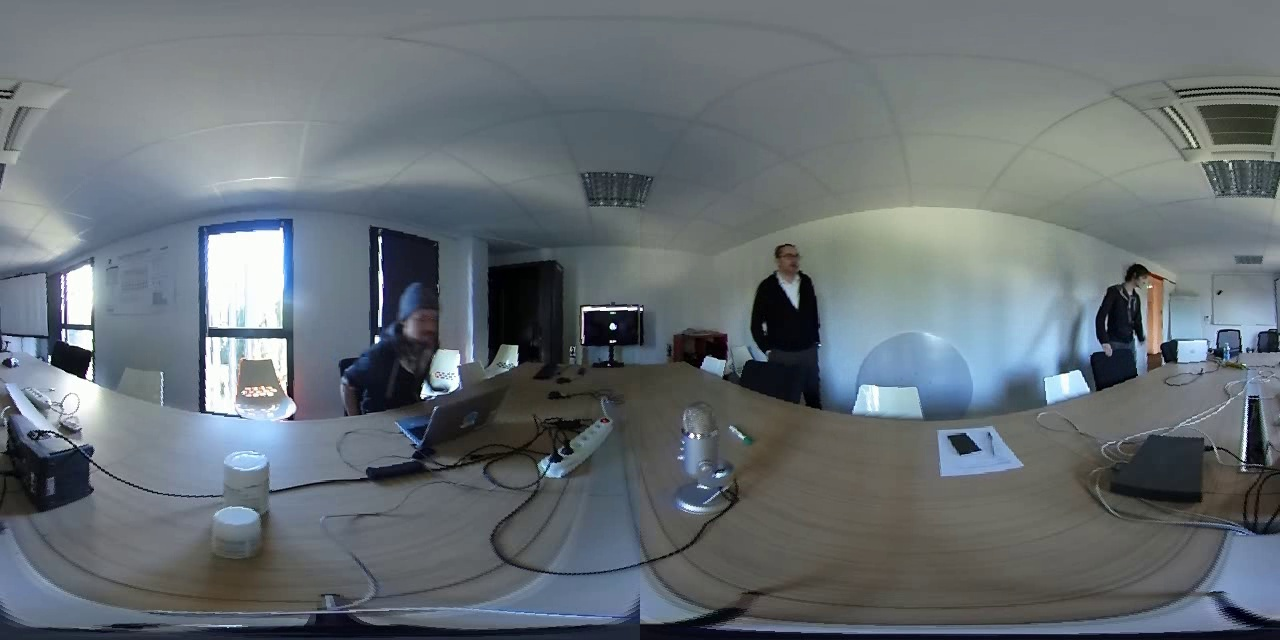person: (746, 229, 840, 389), (343, 279, 452, 401), (1092, 252, 1168, 373)
